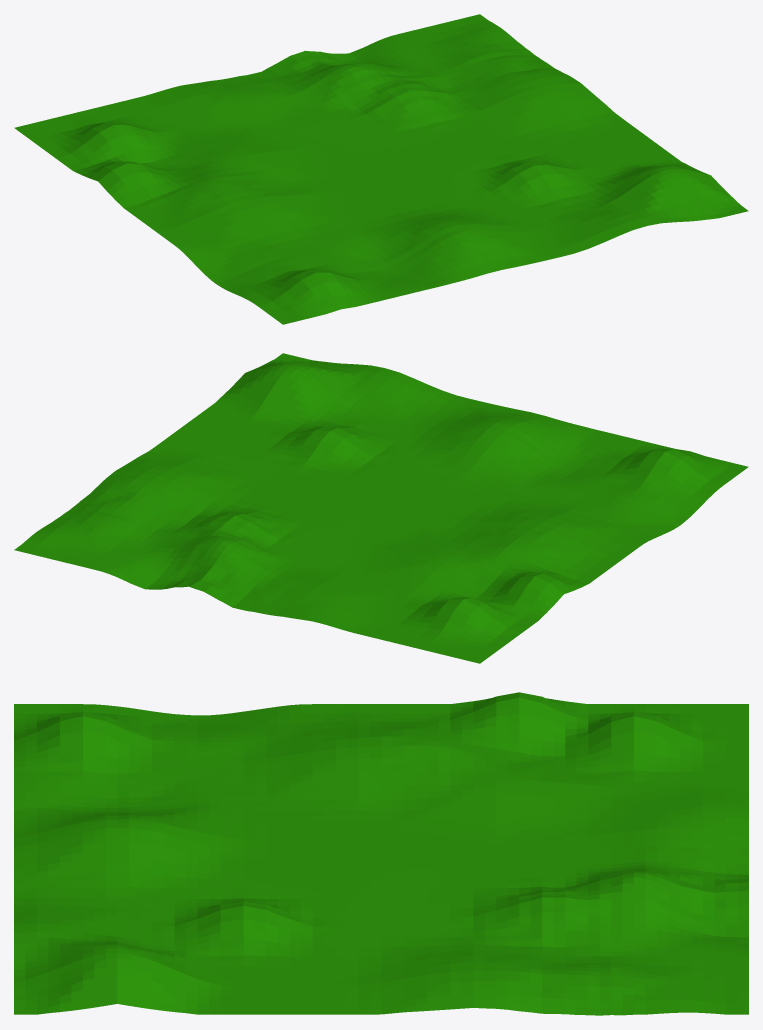
File: Field.fbx
3 renders of one model, top to bottom at view 1: azimuth 30°, elevation 25°; view 2: azimuth 150°, elevation 25°; view 3: azimuth 270°, elevation 25°, orthographic. The views are drawn at different scales.
Visible parts, largest first — view 1: Field; view 2: Field; view 3: Field.
Part boxes in pixels (x1=…): Field: x1=14, y1=14, x2=748, y2=324; Field: x1=14, y1=353, x2=748, y2=663; Field: x1=14, y1=692, x2=748, y2=1015.
Bounding box in the file's own units: 18415 × 1224 × 18415.
